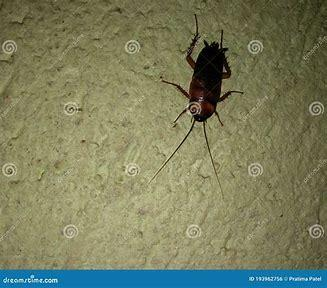cockroach: (144, 9, 256, 194)
